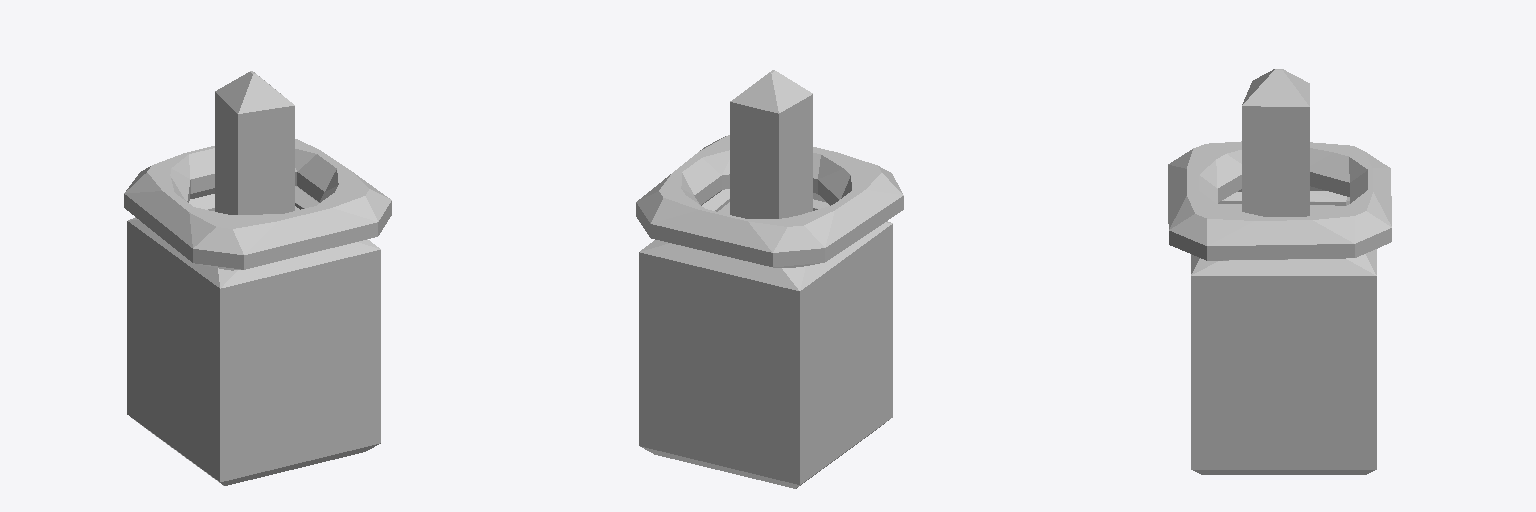
Rendered from executioner_tower.obj.
The picture shows the model from 3 angles: view 1: azimuth 30°, elevation 25°; view 2: azimuth 150°, elevation 25°; view 3: azimuth 270°, elevation 25°; orthographic projection.
Parts seen in each view (by area): view 1: Cube; view 2: Cube; view 3: Cube.
Part boxes in pixels (left/top/right/bottom): Cube: left=124, top=71, right=391, bottom=485; Cube: left=636, top=70, right=903, bottom=488; Cube: left=1168, top=69, right=1391, bottom=474.
Size of the model in its own units: 2.47 by 4.38 by 2.41.